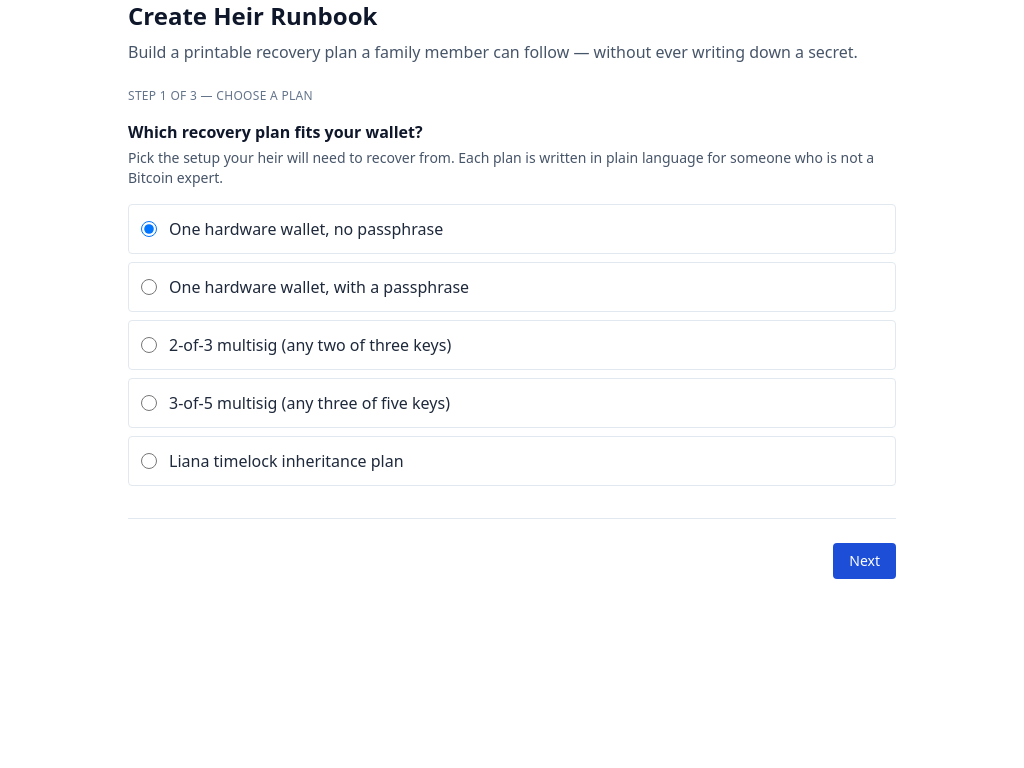
Create Heir Runbook (US-053) › keeps public-safe when the §9.5 confirmation is cancelled
Click the button "Next".
click(865, 561)  # box [833, 543, 896, 579]
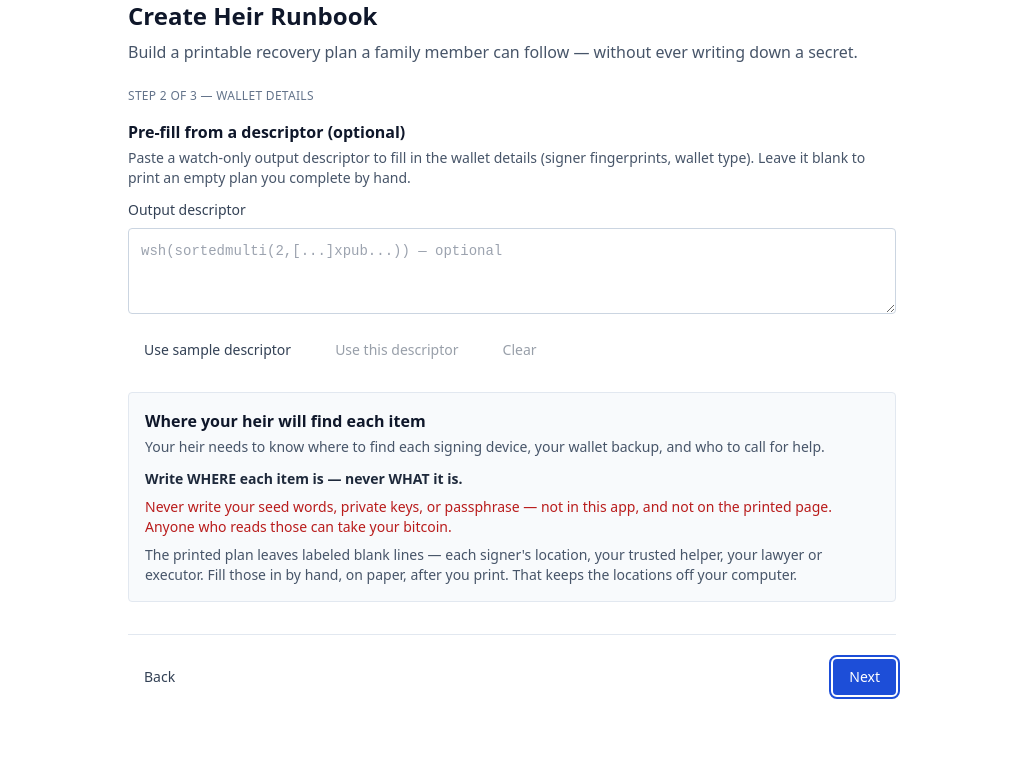
Click the button "Next".
click(865, 677)  # box [833, 659, 896, 695]
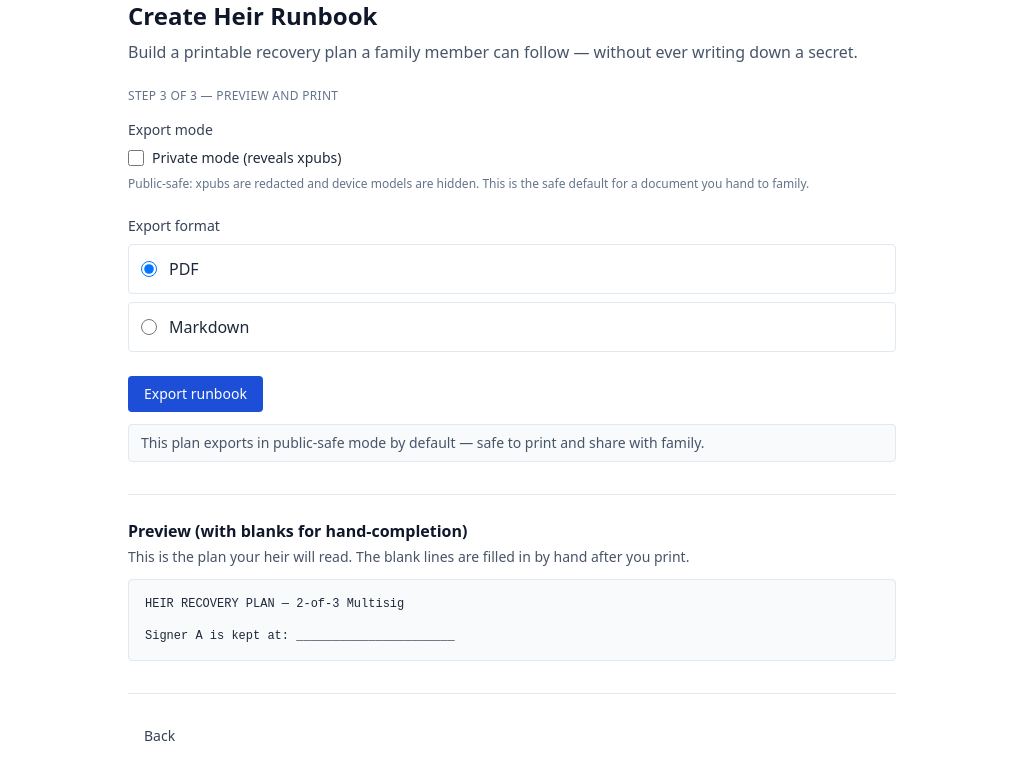
Click the checkbox labelled "Private mode (reveals xpubs)".
click(136, 158)  # box [128, 150, 144, 166]
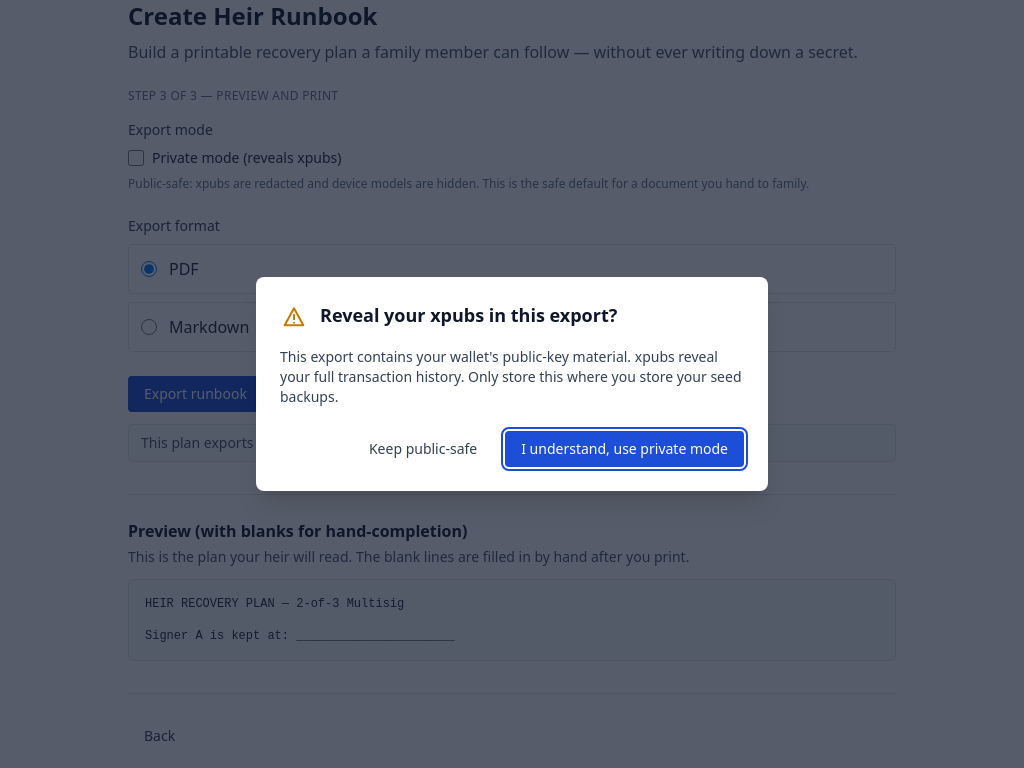
Click the button "Keep public-safe".
click(423, 449)  # box [353, 431, 493, 467]
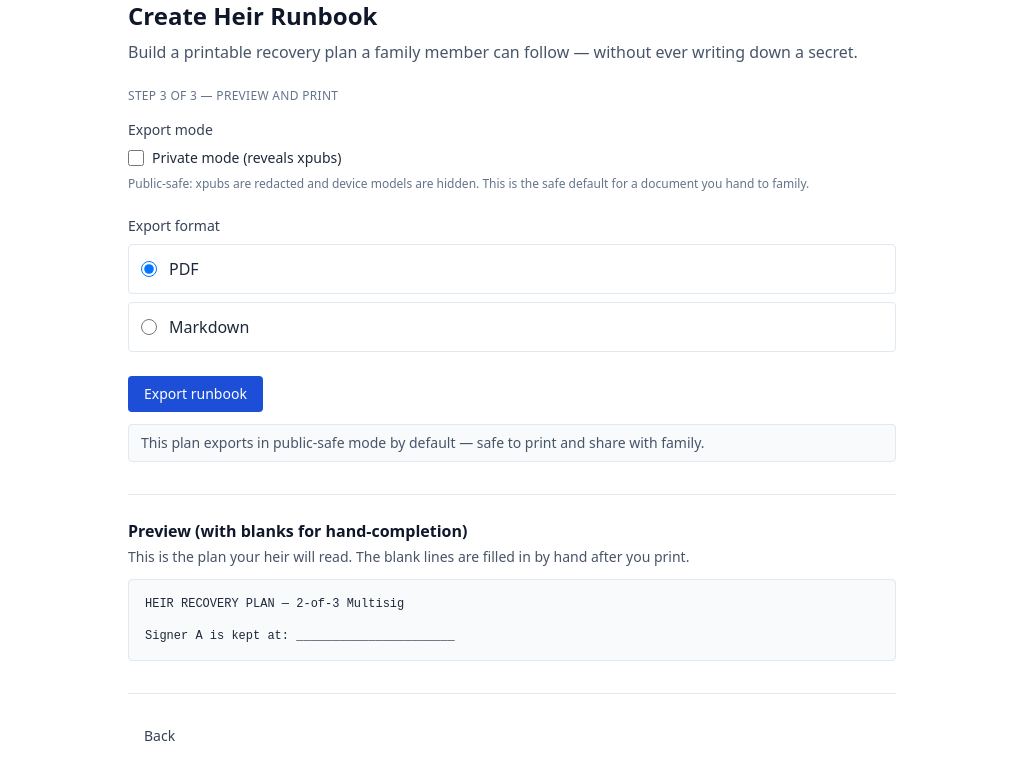
Check: the checkbox labelled "Private mode (reveals xpubs)" is not checked, box [128, 150, 144, 166]
Check: the dialog is gone
Click the button "Export runbook".
click(195, 394)  # box [128, 376, 263, 412]
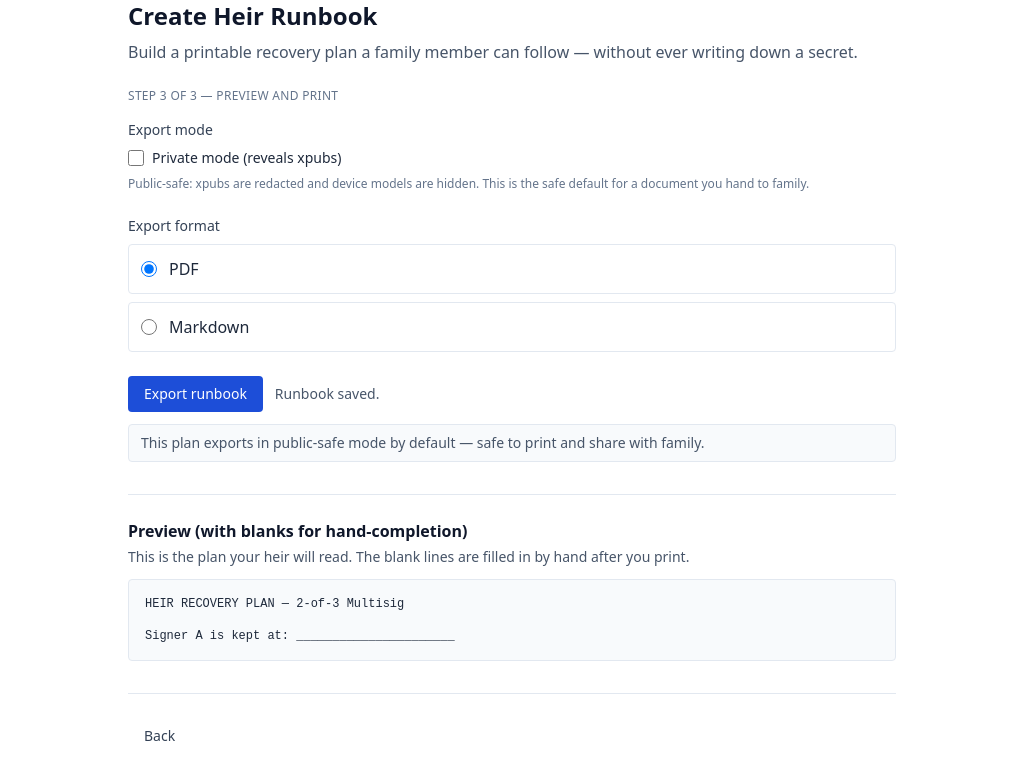
Check: the text "Runbook saved." is shown, box [275, 384, 380, 404]
